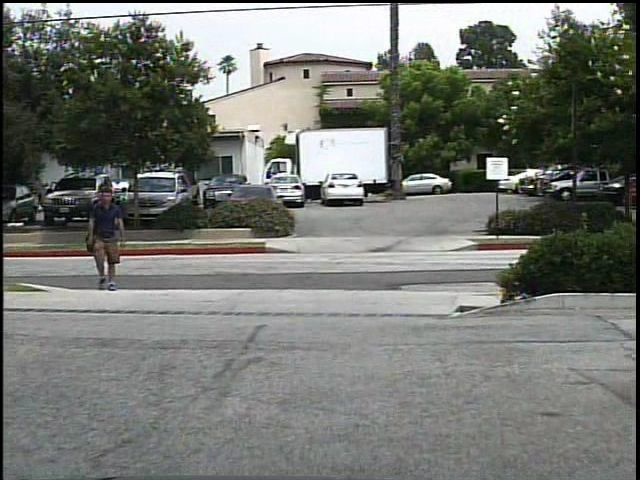person: (87, 189, 129, 293)
